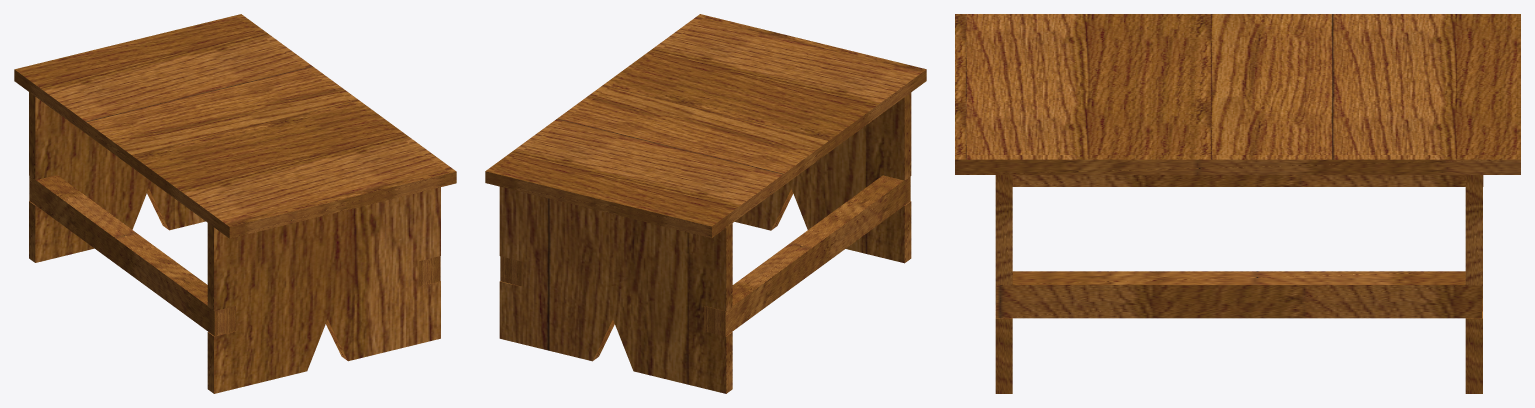
File: bench.obj
3 views of the same model, side by side, from view 1: azimuth 30°, elevation 25°; view 2: azimuth 150°, elevation 25°; view 3: azimuth 270°, elevation 25° (orthographic). The views are drawn at different scales.
Visible parts, largest first — view 1: pCube1 group1, group1 pCube4, group1 pCube2, group1 pCube5, group1 pCube3; view 2: pCube1 group1, group1 pCube2, group1 pCube4, group1 pCube5, group1 pCube3; view 3: pCube1 group1, group1 pCube3, group1 pCube5, group1 pCube4, group1 pCube2.
Boxes of the visible parts, x1,y1,x2,y2 form: pCube1 group1: (14,14,456,238); group1 pCube4: (207,187,440,393); group1 pCube2: (29,92,205,262); group1 pCube5: (29,175,235,336); group1 pCube3: (419,256,440,286); pCube1 group1: (485,14,926,238); group1 pCube2: (499,186,732,393); group1 pCube4: (734,92,911,263); group1 pCube5: (704,175,910,336); group1 pCube3: (500,256,521,286); pCube1 group1: (955,14,1520,174); group1 pCube3: (996,271,1481,318); group1 pCube5: (1012,175,1483,186); group1 pCube4: (995,175,1012,393); group1 pCube2: (1465,175,1482,393).
Size of the model in its own units: 4.26 by 3.2 by 7.01.
Materials: 1 (1 with a texture image).
